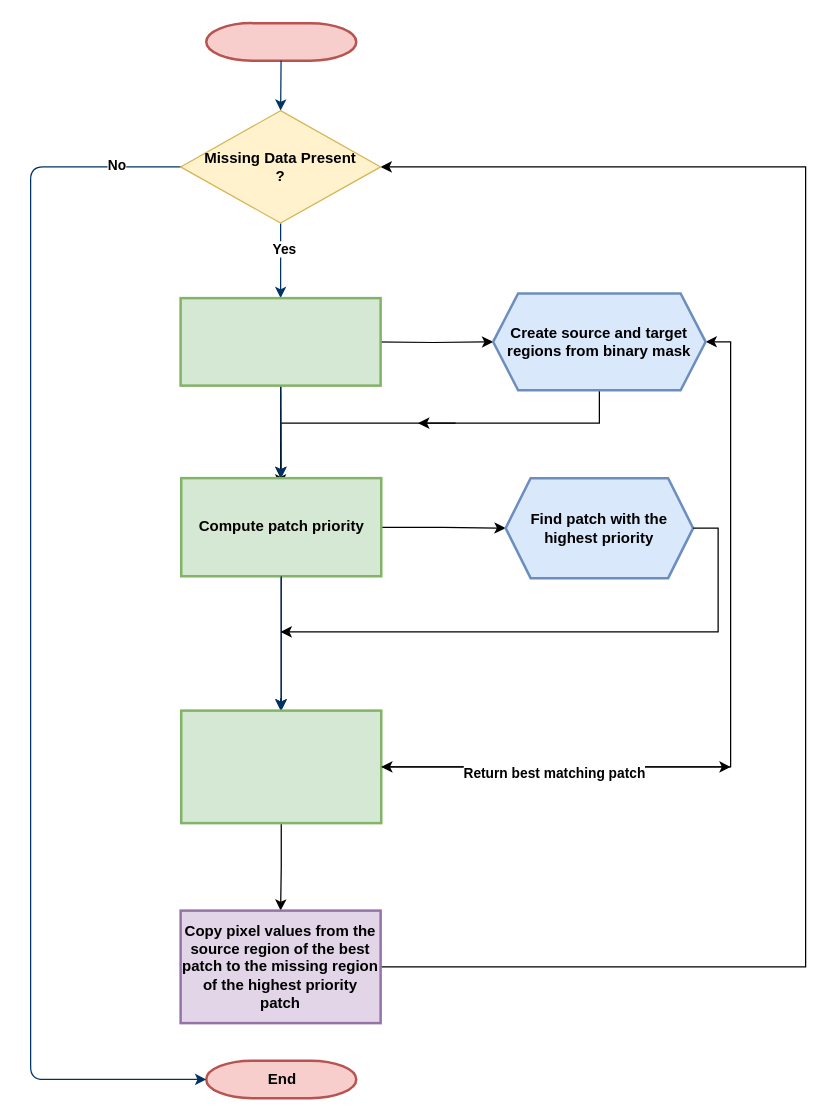
The diagram is 838 pixels wide and 1120 high, and some of its shapes have lost their labels. Here are the shapes that lost their labels. From the top down, the centre of each, then its label:
the point at 280,41: Input Image
the point at 280,341: Generate binary mask
the point at 280,766: Search for a matching patch in the source region for the highest priority patch
